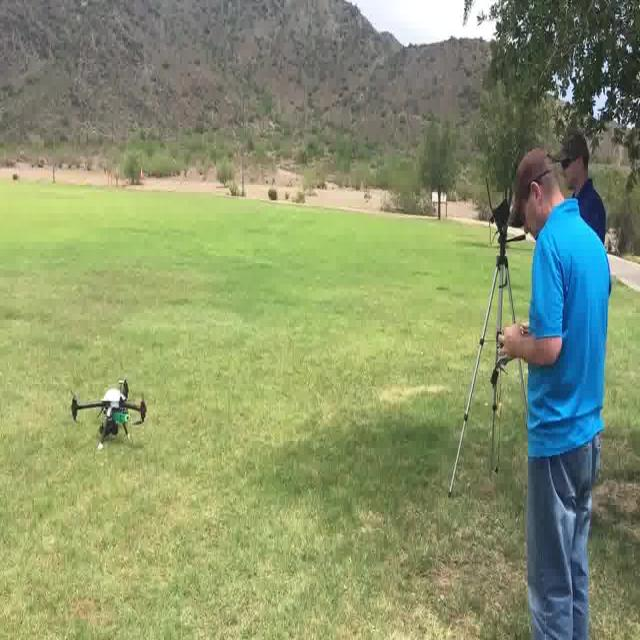drone: (70, 375, 148, 456)
